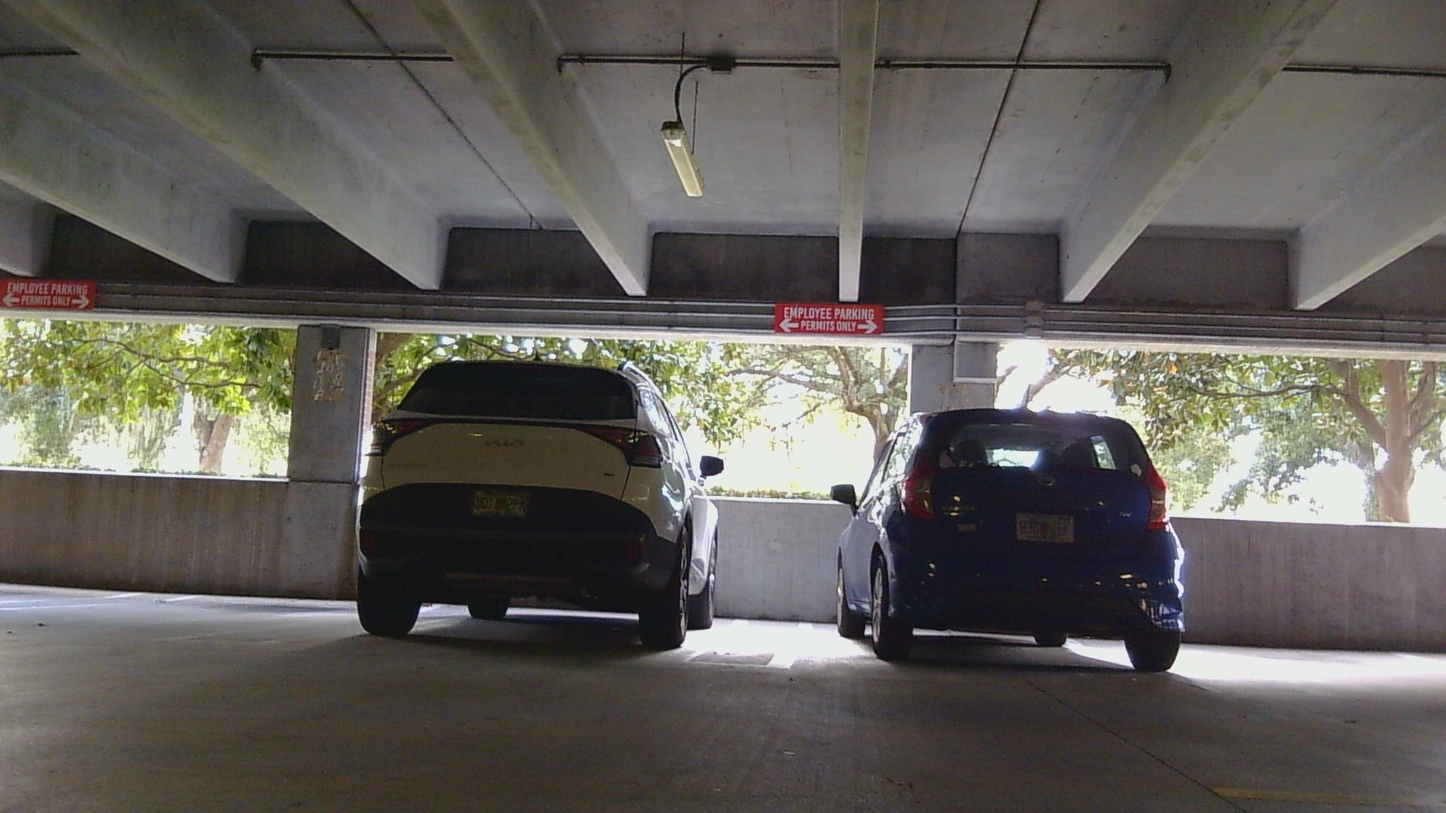empty_spot: (0, 518, 362, 642), (1152, 566, 1445, 693)
occupied_spot: (349, 348, 737, 659), (827, 399, 1193, 678)
